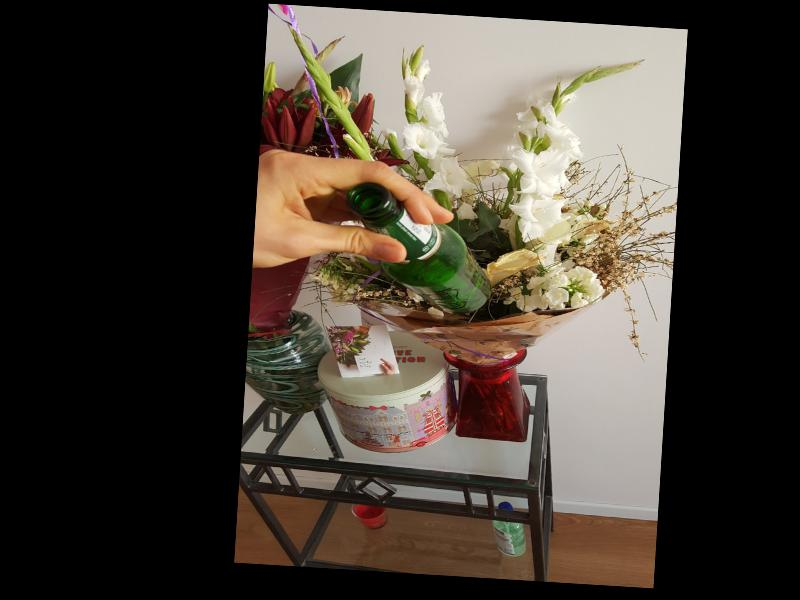Beer: (342, 181, 496, 315)
